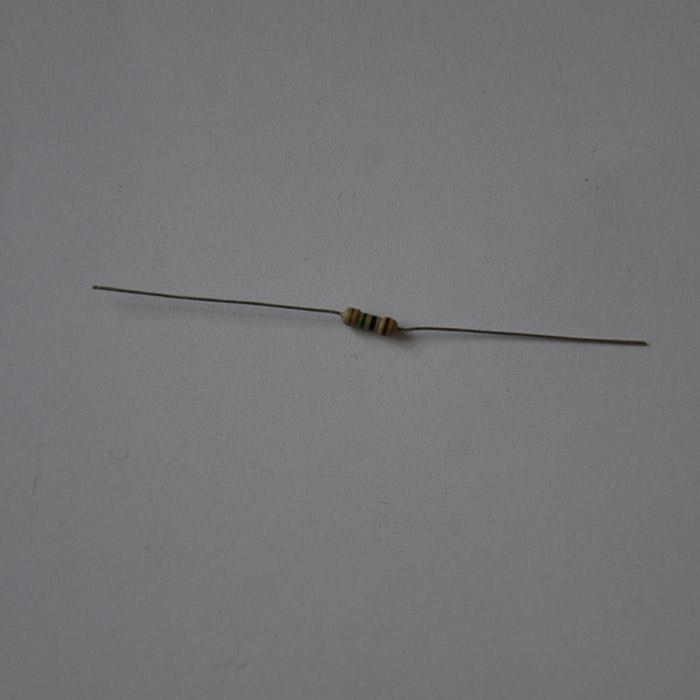resistor: (341, 306, 397, 335)
